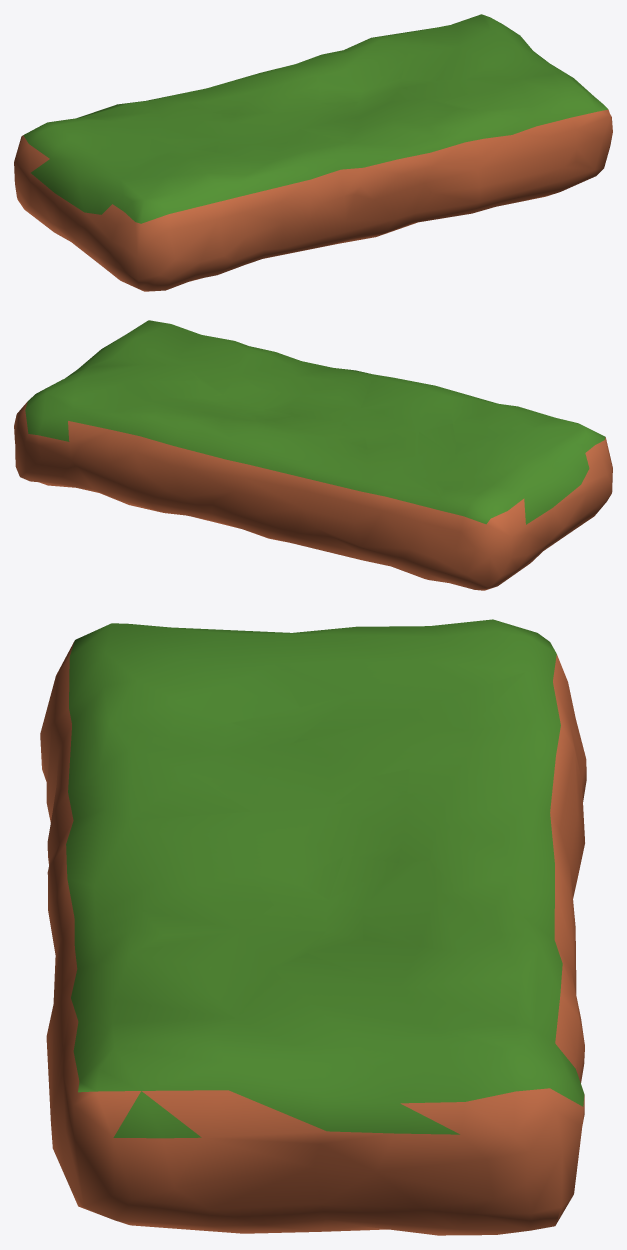
File: canopy_moss_ledge_lod1.glb
3 renders of one model, top to bottom at view 1: azimuth 30°, elevation 25°; view 2: azimuth 150°, elevation 25°; view 3: azimuth 270°, elevation 25°, orthographic. The views are drawn at different scales.
Parts seen in each view (by area): view 1: canopy_moss_ledge.001; view 2: canopy_moss_ledge.001; view 3: canopy_moss_ledge.001.
Part boxes in pixels (x1,y1,x2,y2): canopy_moss_ledge.001: (14,14,612,291); canopy_moss_ledge.001: (14,320,612,590); canopy_moss_ledge.001: (40,619,586,1235).
Size of the model in its own units: 3.46 by 0.6724 by 1.64.
